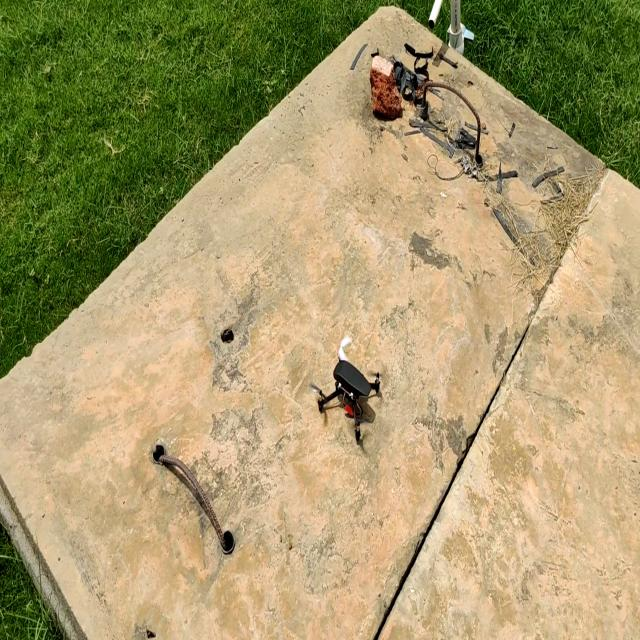drone: (294, 324, 405, 456)
